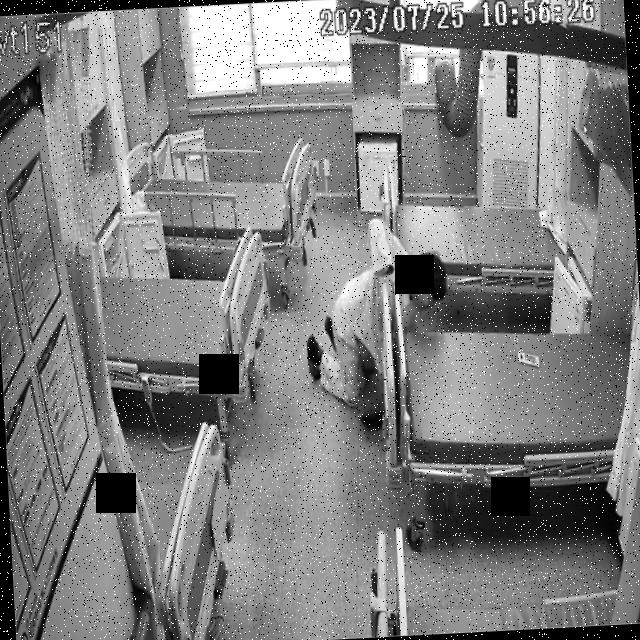bed: (397, 310, 640, 497), (97, 226, 278, 412), (126, 133, 317, 264), (382, 171, 568, 301)
fall: (301, 218, 454, 410)
patient: (302, 216, 456, 412)
